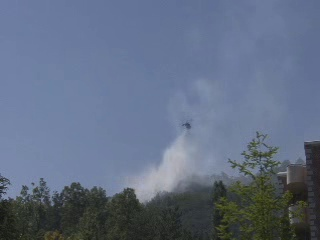smoke: (131, 90, 209, 203), (206, 46, 264, 186)
